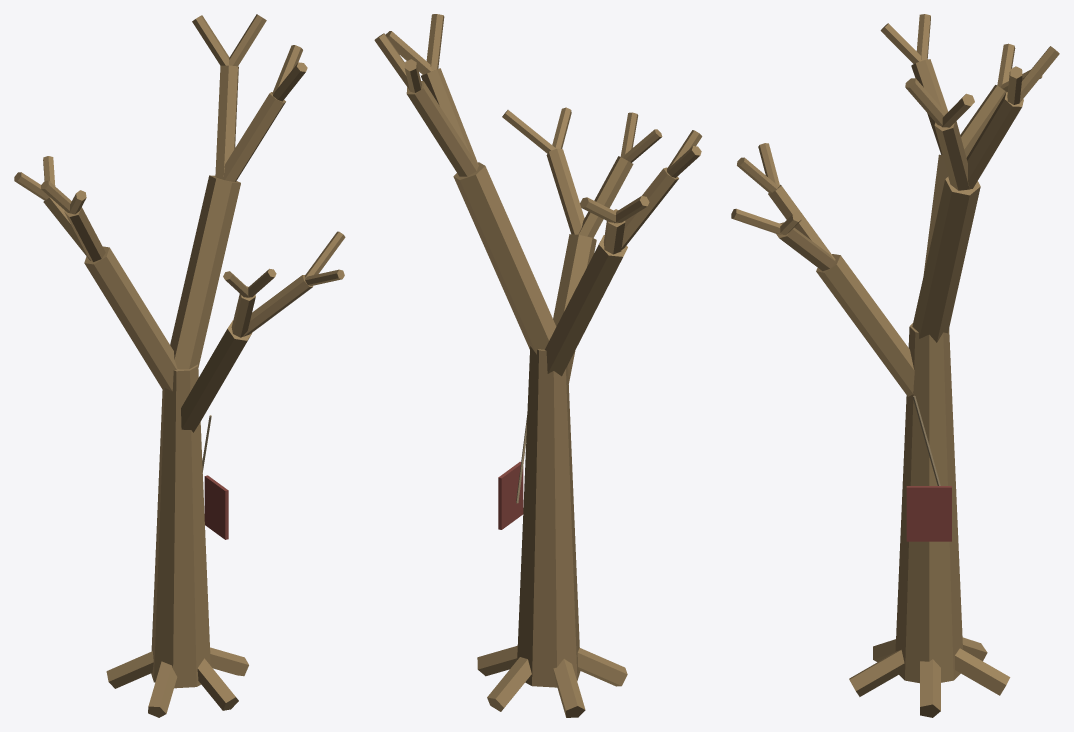
File: V_DeadTree.glb
3 renders of one model, left to right at view 1: azimuth 30°, elevation 25°; view 2: azimuth 150°, elevation 25°; view 3: azimuth 270°, elevation 25°, orthographic. The views are drawn at different scales.
Visible parts, largest first — view 1: V_DeadTree_Structure, V_DeadTree_Foundation, V_DeadTree_Props; view 2: V_DeadTree_Structure, V_DeadTree_Foundation, V_DeadTree_Props; view 3: V_DeadTree_Structure, V_DeadTree_Foundation, V_DeadTree_Props.
Part boxes in pixels (<box>): V_DeadTree_Structure: <box>14,14,345,688</box>; V_DeadTree_Foundation: <box>106,647,248,717</box>; V_DeadTree_Props: <box>202,415,228,539</box>; V_DeadTree_Structure: <box>374,14,702,687</box>; V_DeadTree_Foundation: <box>477,645,627,717</box>; V_DeadTree_Props: <box>498,415,527,529</box>; V_DeadTree_Structure: <box>731,14,1059,683</box>; V_DeadTree_Foundation: <box>849,637,1010,717</box>; V_DeadTree_Props: <box>906,395,951,541</box>.
Size of the model in its own units: 4.32 by 9.16 by 3.98.
